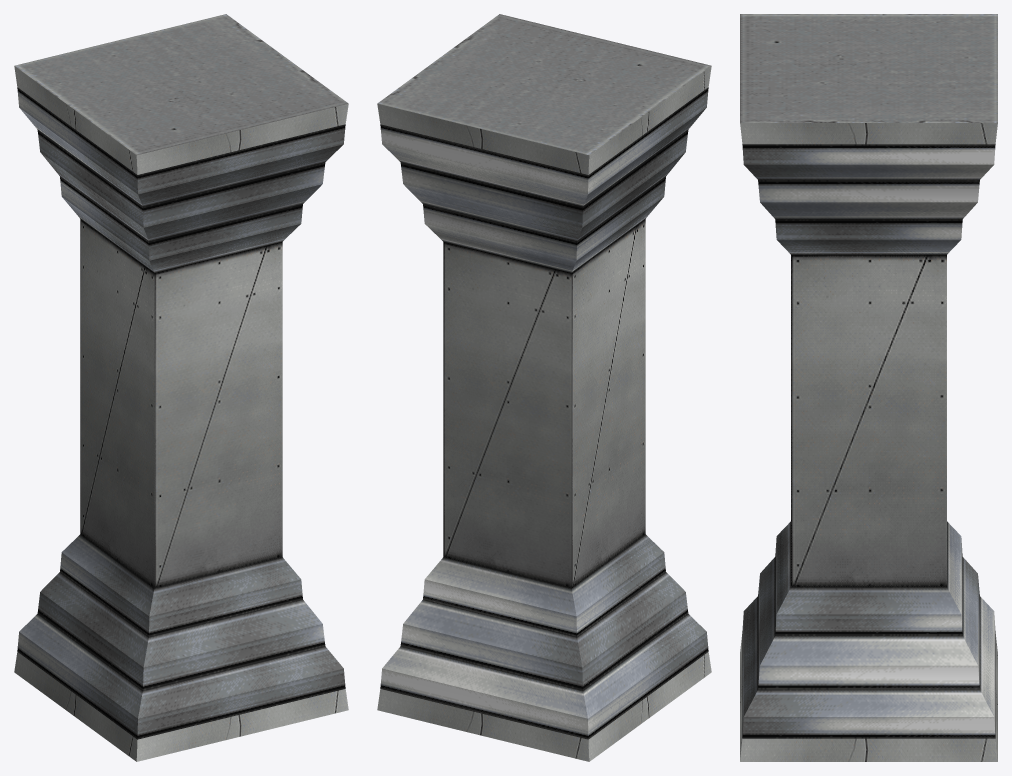
File: Column01.fbx
The picture shows the model from 3 angles, left to right: view 1: azimuth 30°, elevation 25°; view 2: azimuth 150°, elevation 25°; view 3: azimuth 270°, elevation 25°; orthographic projection. The views are drawn at different scales.
Visible parts, largest first — view 1: Column01; view 2: Column01; view 3: Column01.
Boxes of the visible parts, x1,y1,x2,y2 form: Column01: (14, 14, 348, 761); Column01: (377, 14, 711, 761); Column01: (740, 14, 997, 761).
Bounding box in the file's own units: 219 × 600 × 219.
